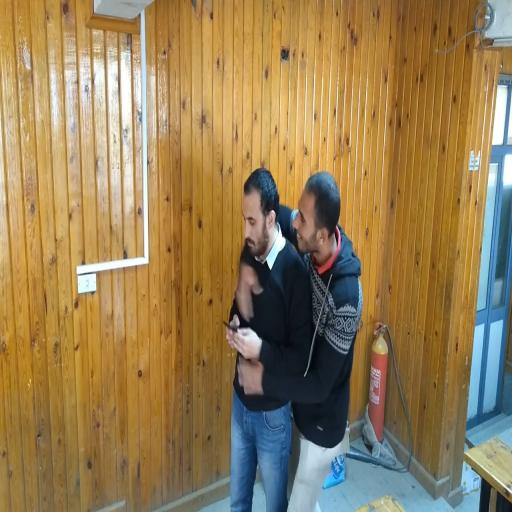nao-violencia: (220, 162, 369, 511)
